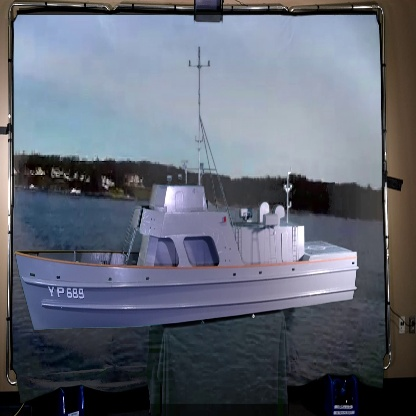YP689: (14, 46, 359, 335)
